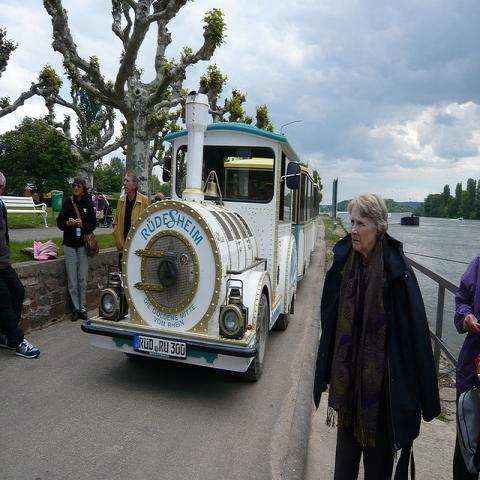bus: (85, 97, 325, 383)
